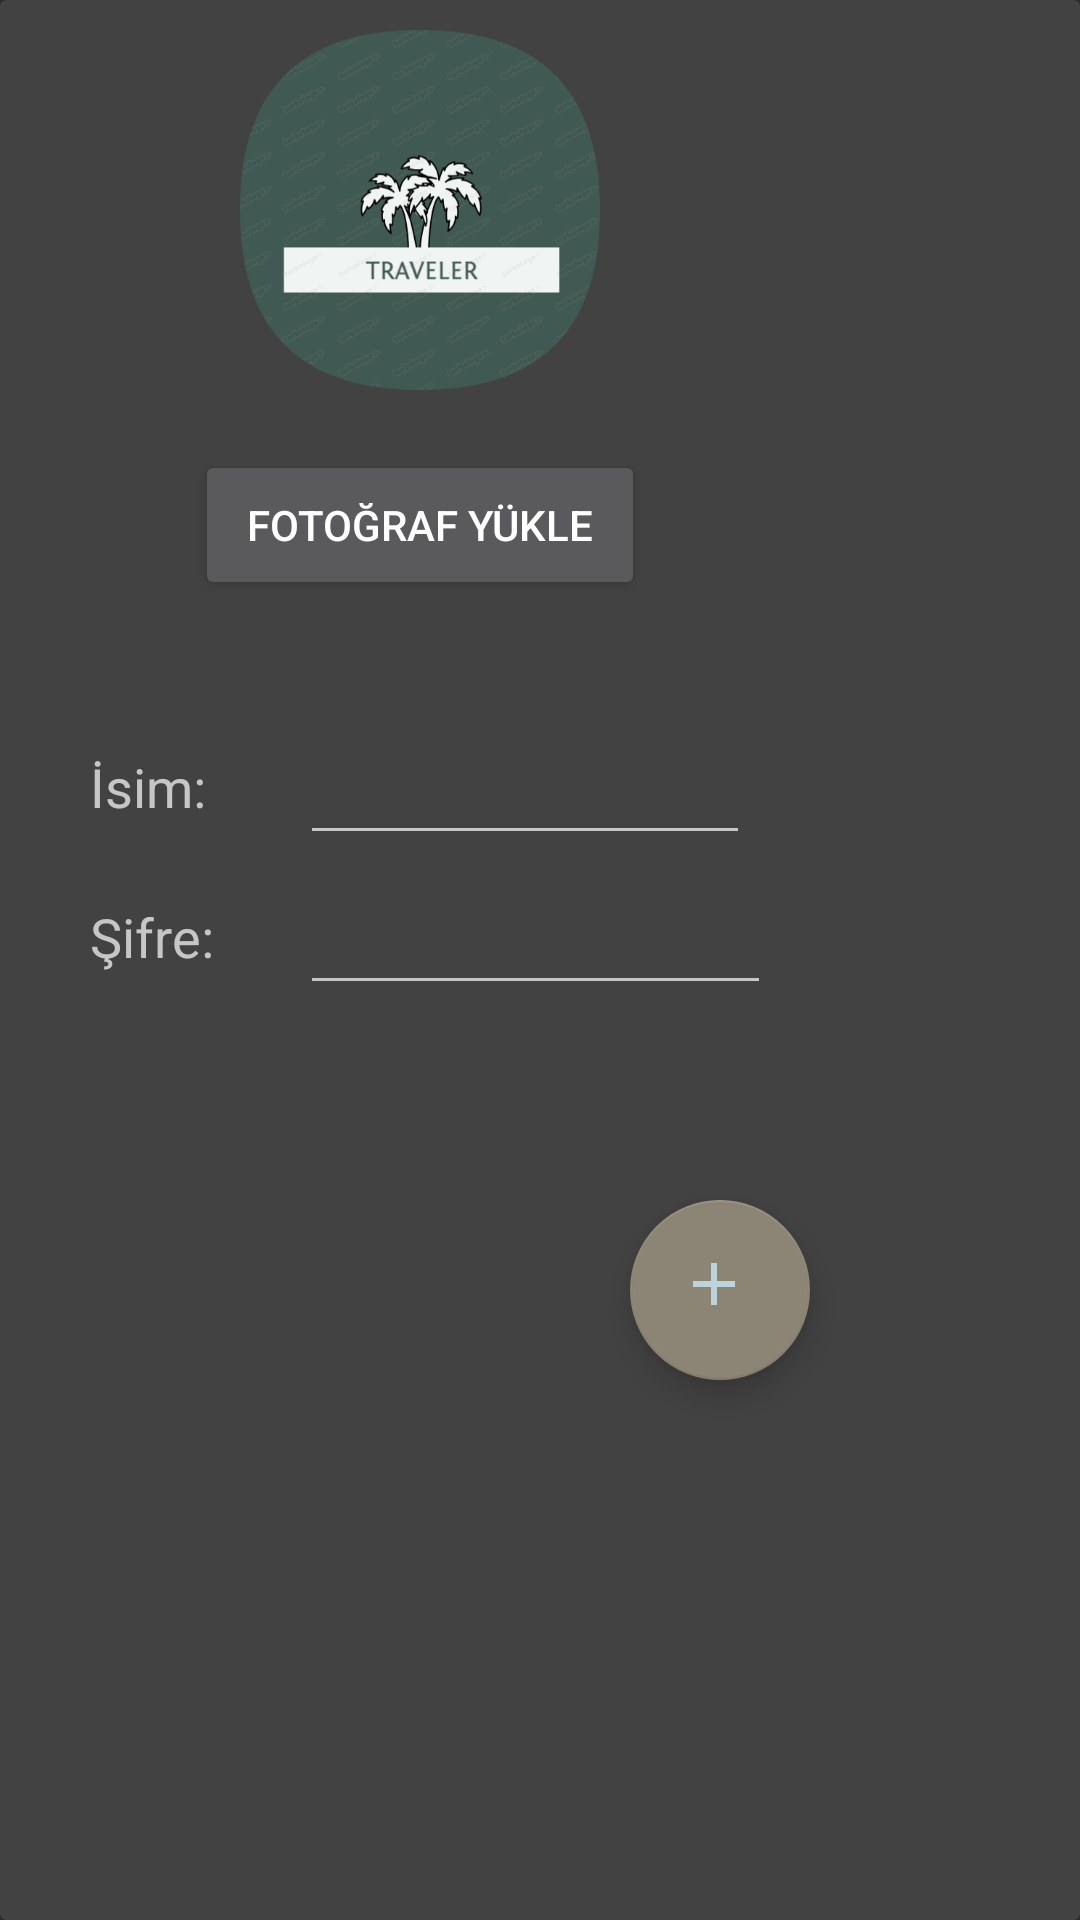

Screen size 1080*1920. Icon name, then its center in pixels as (x,y):
icplus: (720,1290)
palmtreeo: (420,210)
